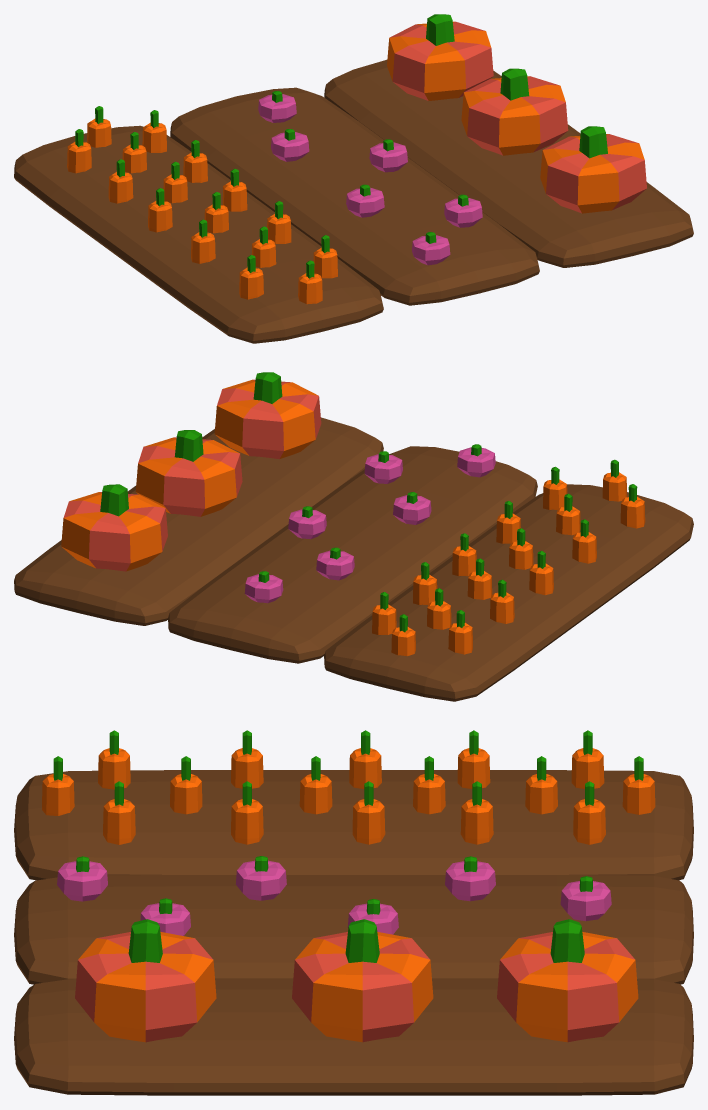
File: Cultivo.fbx
3 views of the same model, one above another, from view 1: azimuth 30°, elevation 25°; view 2: azimuth 150°, elevation 25°; view 3: azimuth 270°, elevation 25° (orthographic). The views are drawn at different scales.
Visible parts, largest first — view 1: CULTIVO; view 2: CULTIVO; view 3: CULTIVO.
Part boxes in pixels (bbox=[...]): CULTIVO: bbox=[14, 14, 693, 343]; CULTIVO: bbox=[14, 372, 693, 701]; CULTIVO: bbox=[14, 730, 693, 1095].
Bounding box in the file's own units: 5.95 × 1.15 × 5.45.
